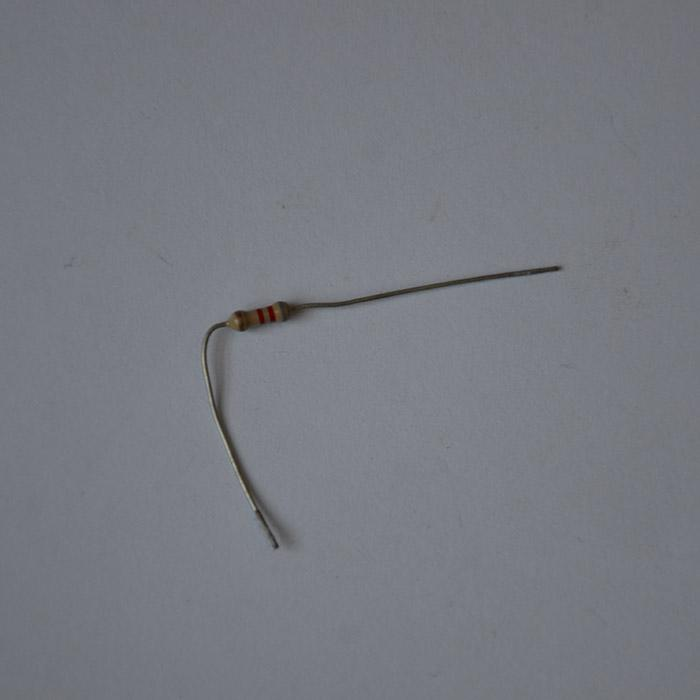resistor: (225, 300, 290, 331)
